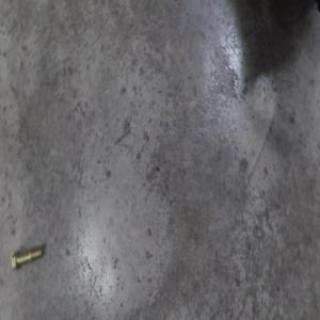Bolttrack_idkeyframe: (14, 242, 46, 270)
